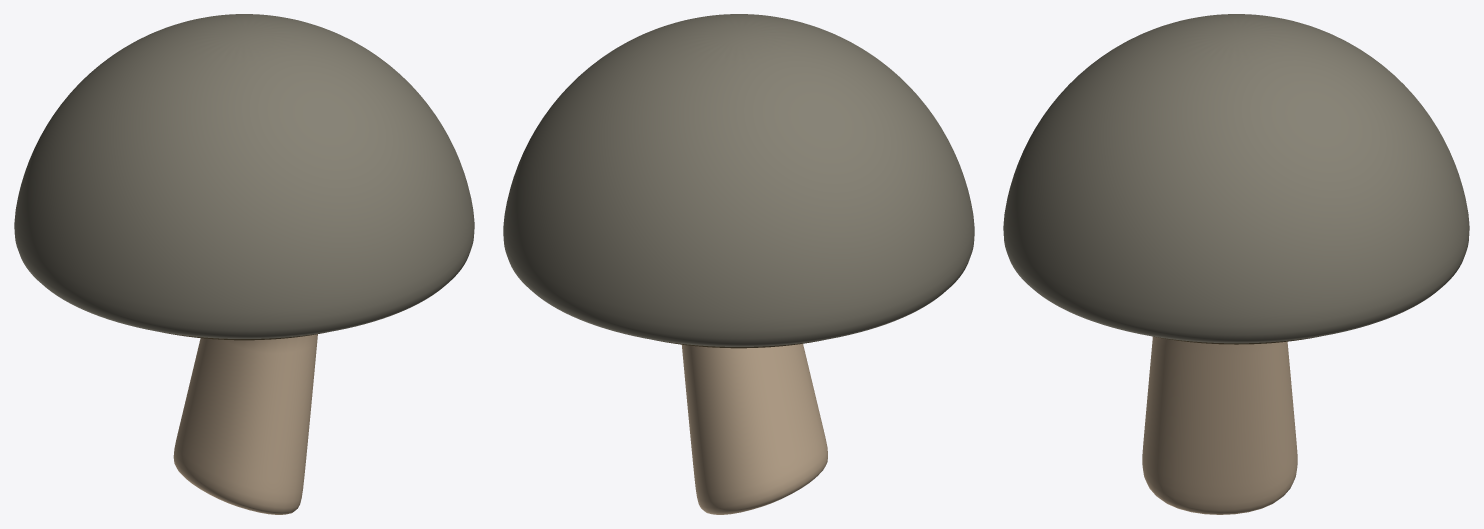
The model's file is mantar.fbx.
3 views of the same model, side by side, from view 1: azimuth 30°, elevation 25°; view 2: azimuth 150°, elevation 25°; view 3: azimuth 270°, elevation 25° (orthographic). The views are drawn at different scales.
Parts seen in each view (by area): view 1: Sphere.001, Cube; view 2: Sphere.001, Cube; view 3: Sphere.001, Cube.
Boxes of the visible parts, left/top/right/bottom form: Sphere.001: left=14, top=14, right=474, bottom=338; Cube: left=173, top=334, right=317, bottom=514; Sphere.001: left=503, top=14, right=974, bottom=346; Cube: left=682, top=343, right=827, bottom=514; Sphere.001: left=1003, top=14, right=1469, bottom=343; Cube: left=1142, top=336, right=1297, bottom=514.
Size of the model in its own units: 516 by 570 by 516.
